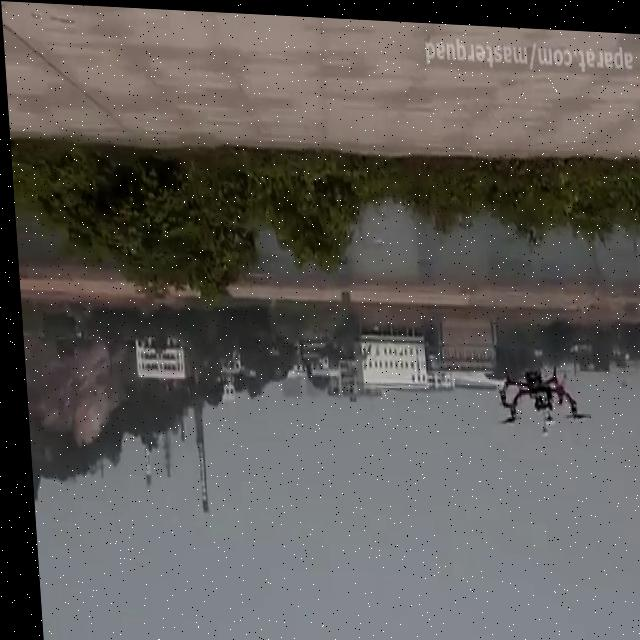drone: (484, 353, 587, 437)
